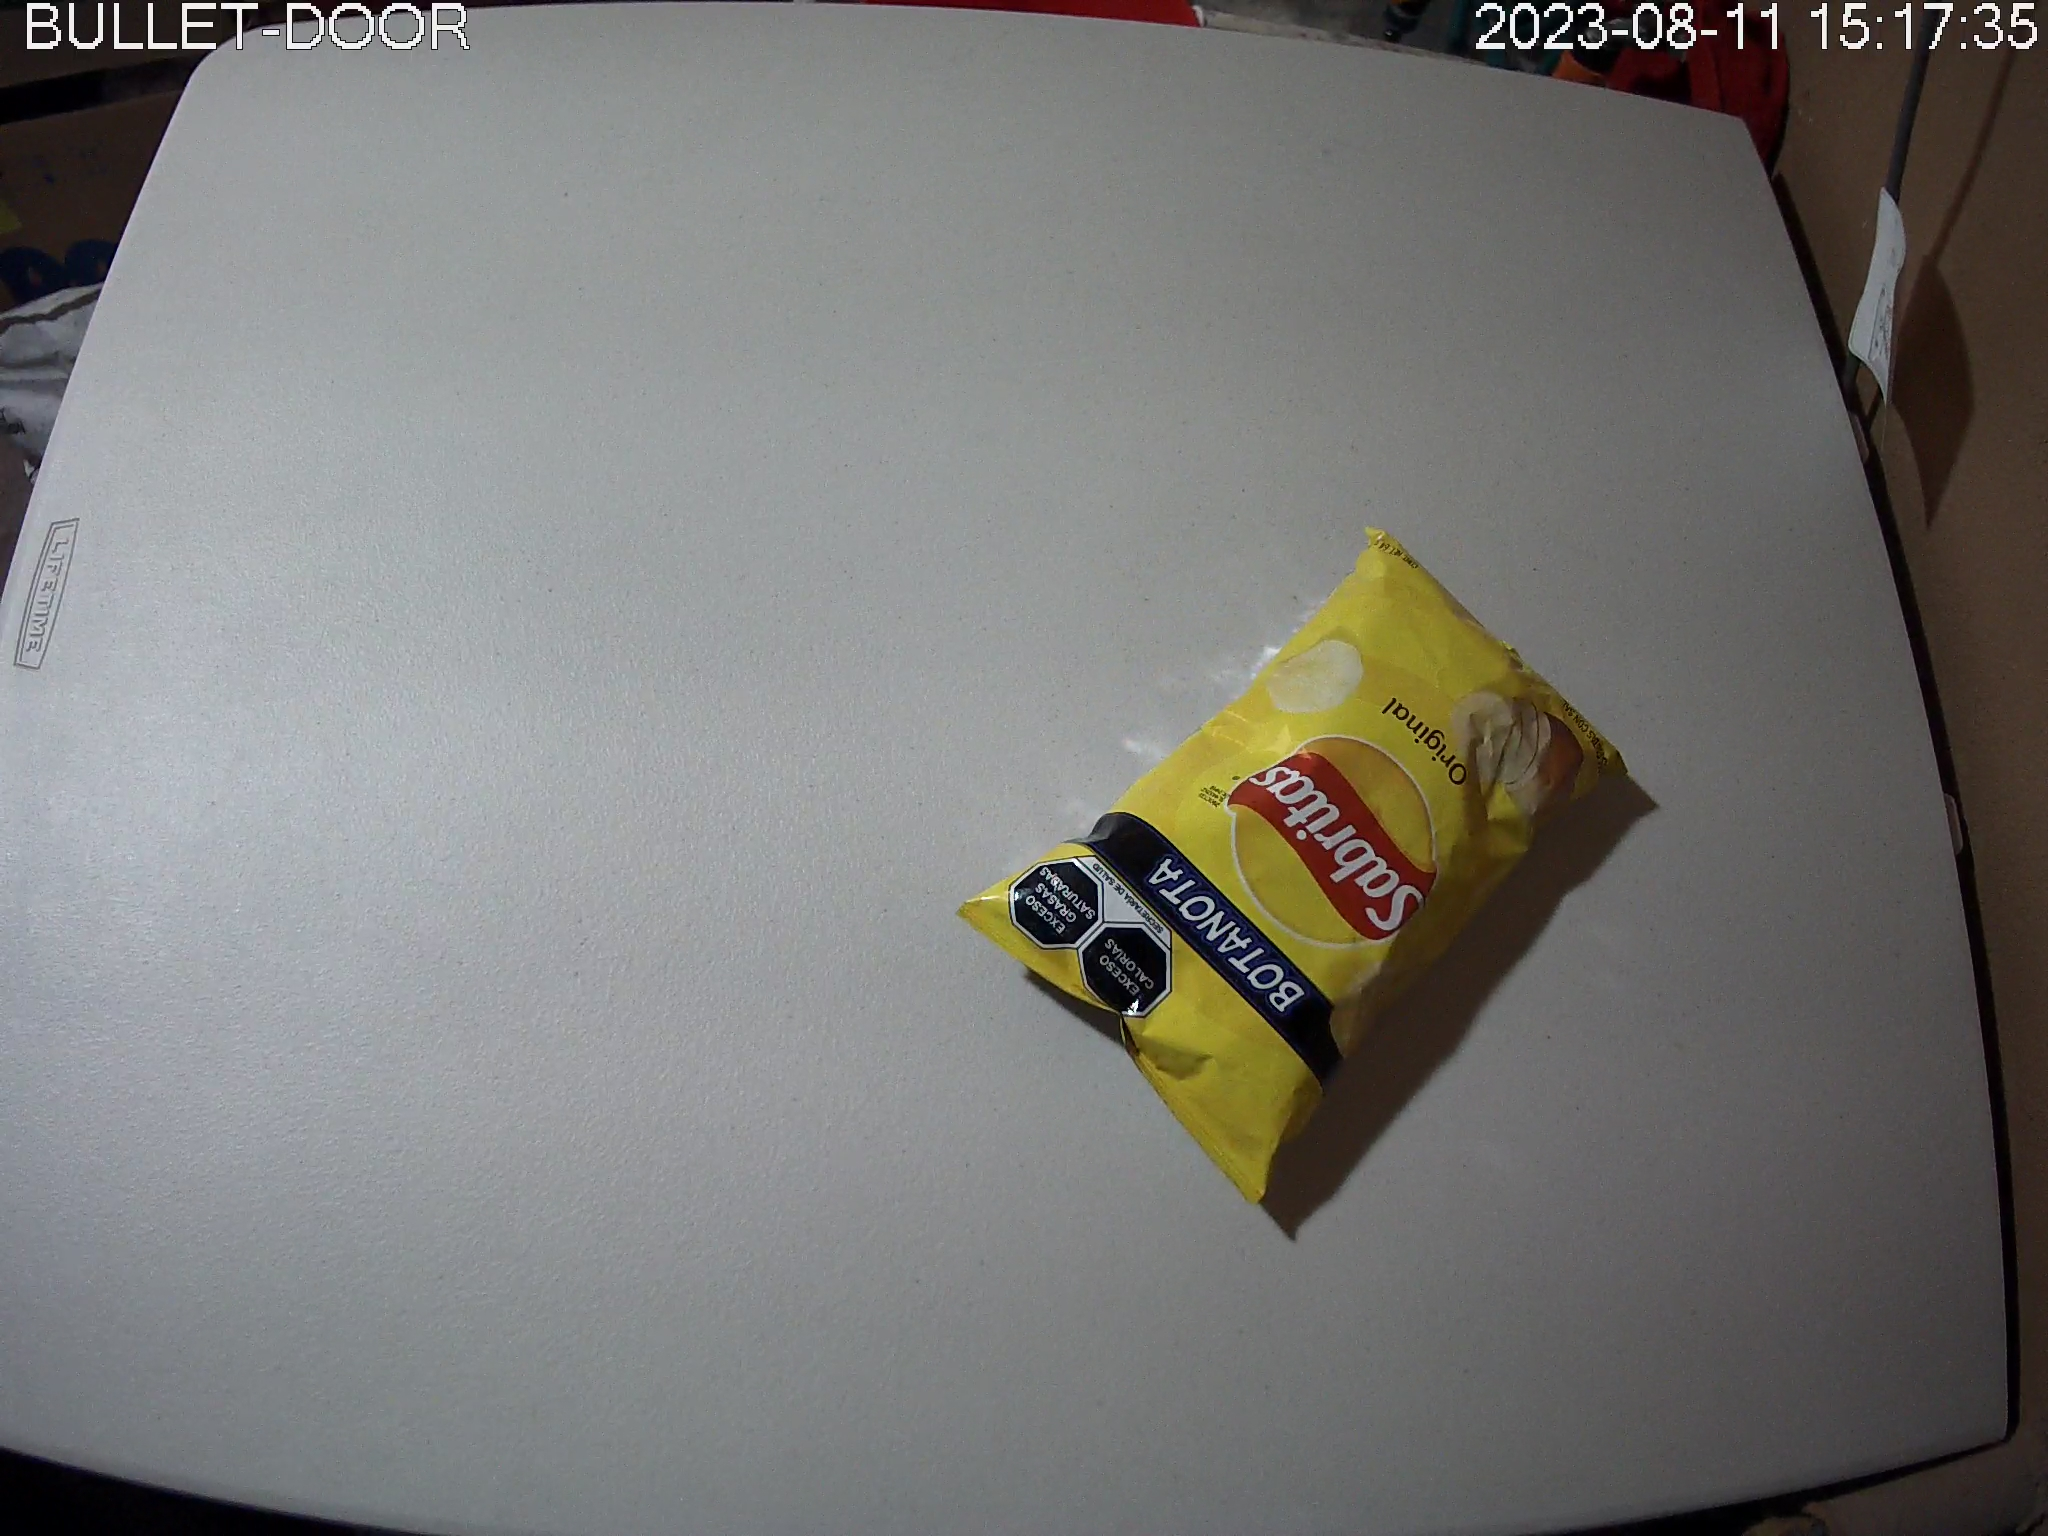Sabritas_64_F: (953, 528, 1632, 1210)
